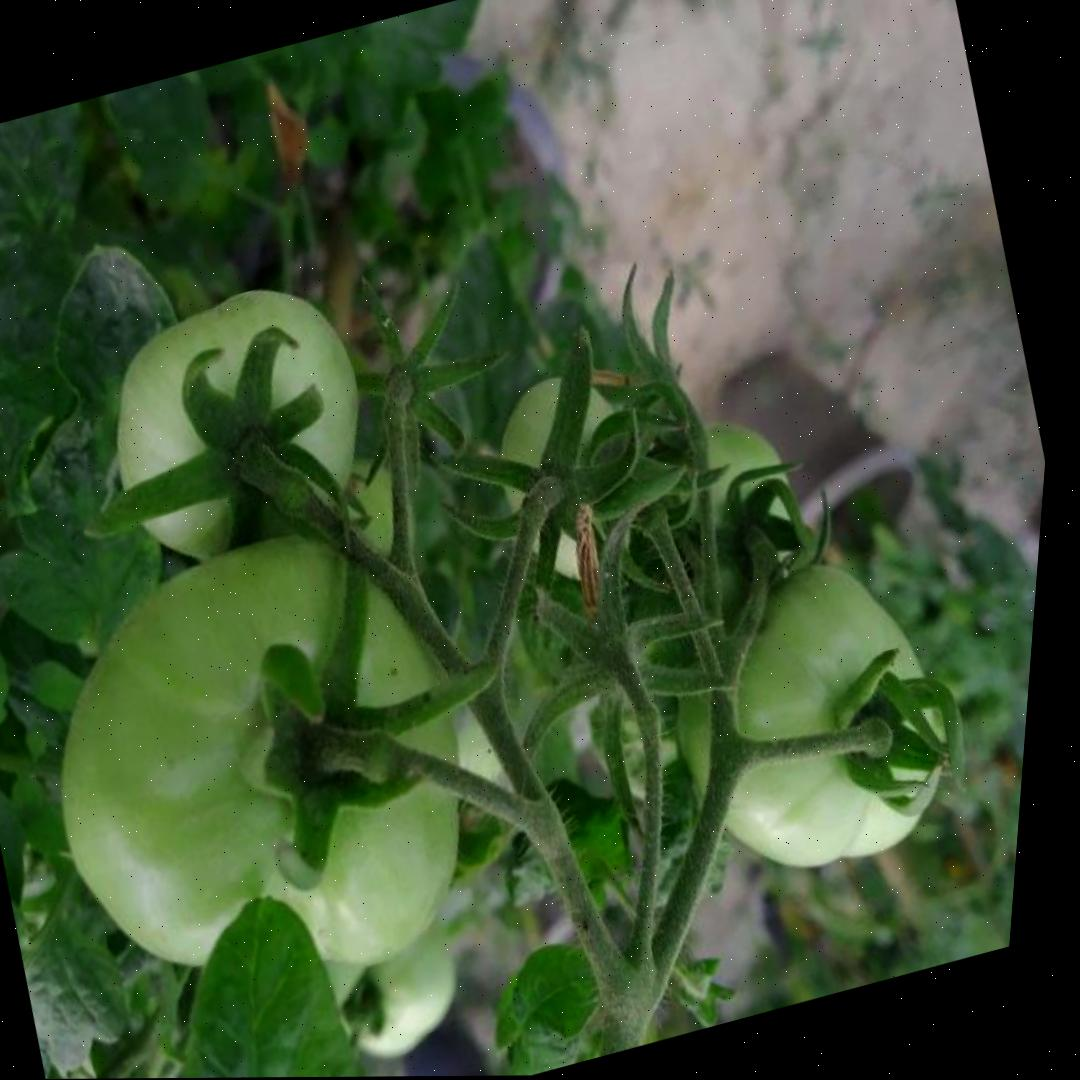mentah: (0, 498, 525, 1041), (628, 540, 980, 901), (72, 264, 404, 585)
